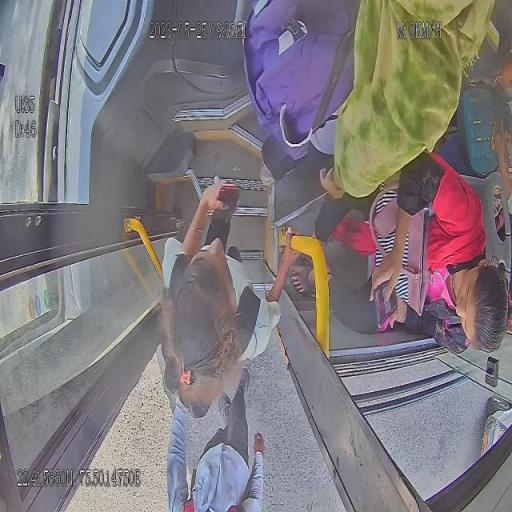persona: (243, 0, 494, 198), (288, 150, 510, 356), (154, 180, 304, 422), (166, 366, 266, 511)
